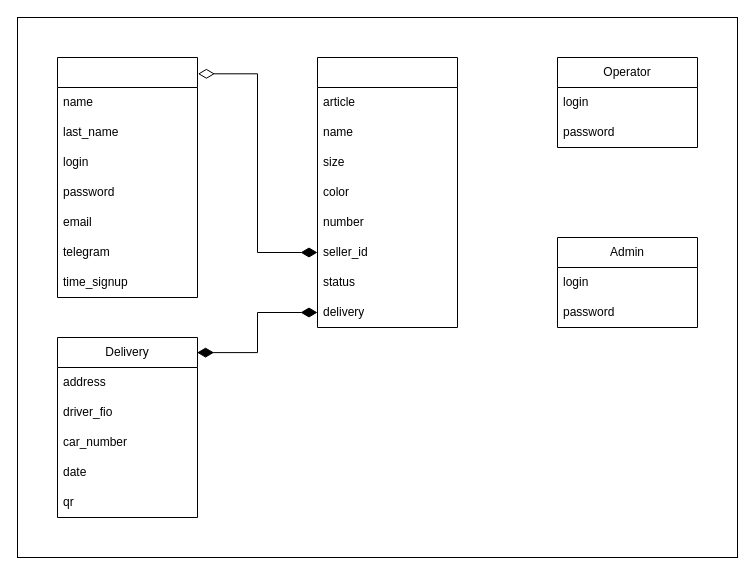
The diagram is 755 pixels wide and 575 high, and some of its shapes have lost their labels. Each missing label, with the box of its shape:
Product: (316, 56, 458, 328)
Seller: (56, 56, 198, 298)
